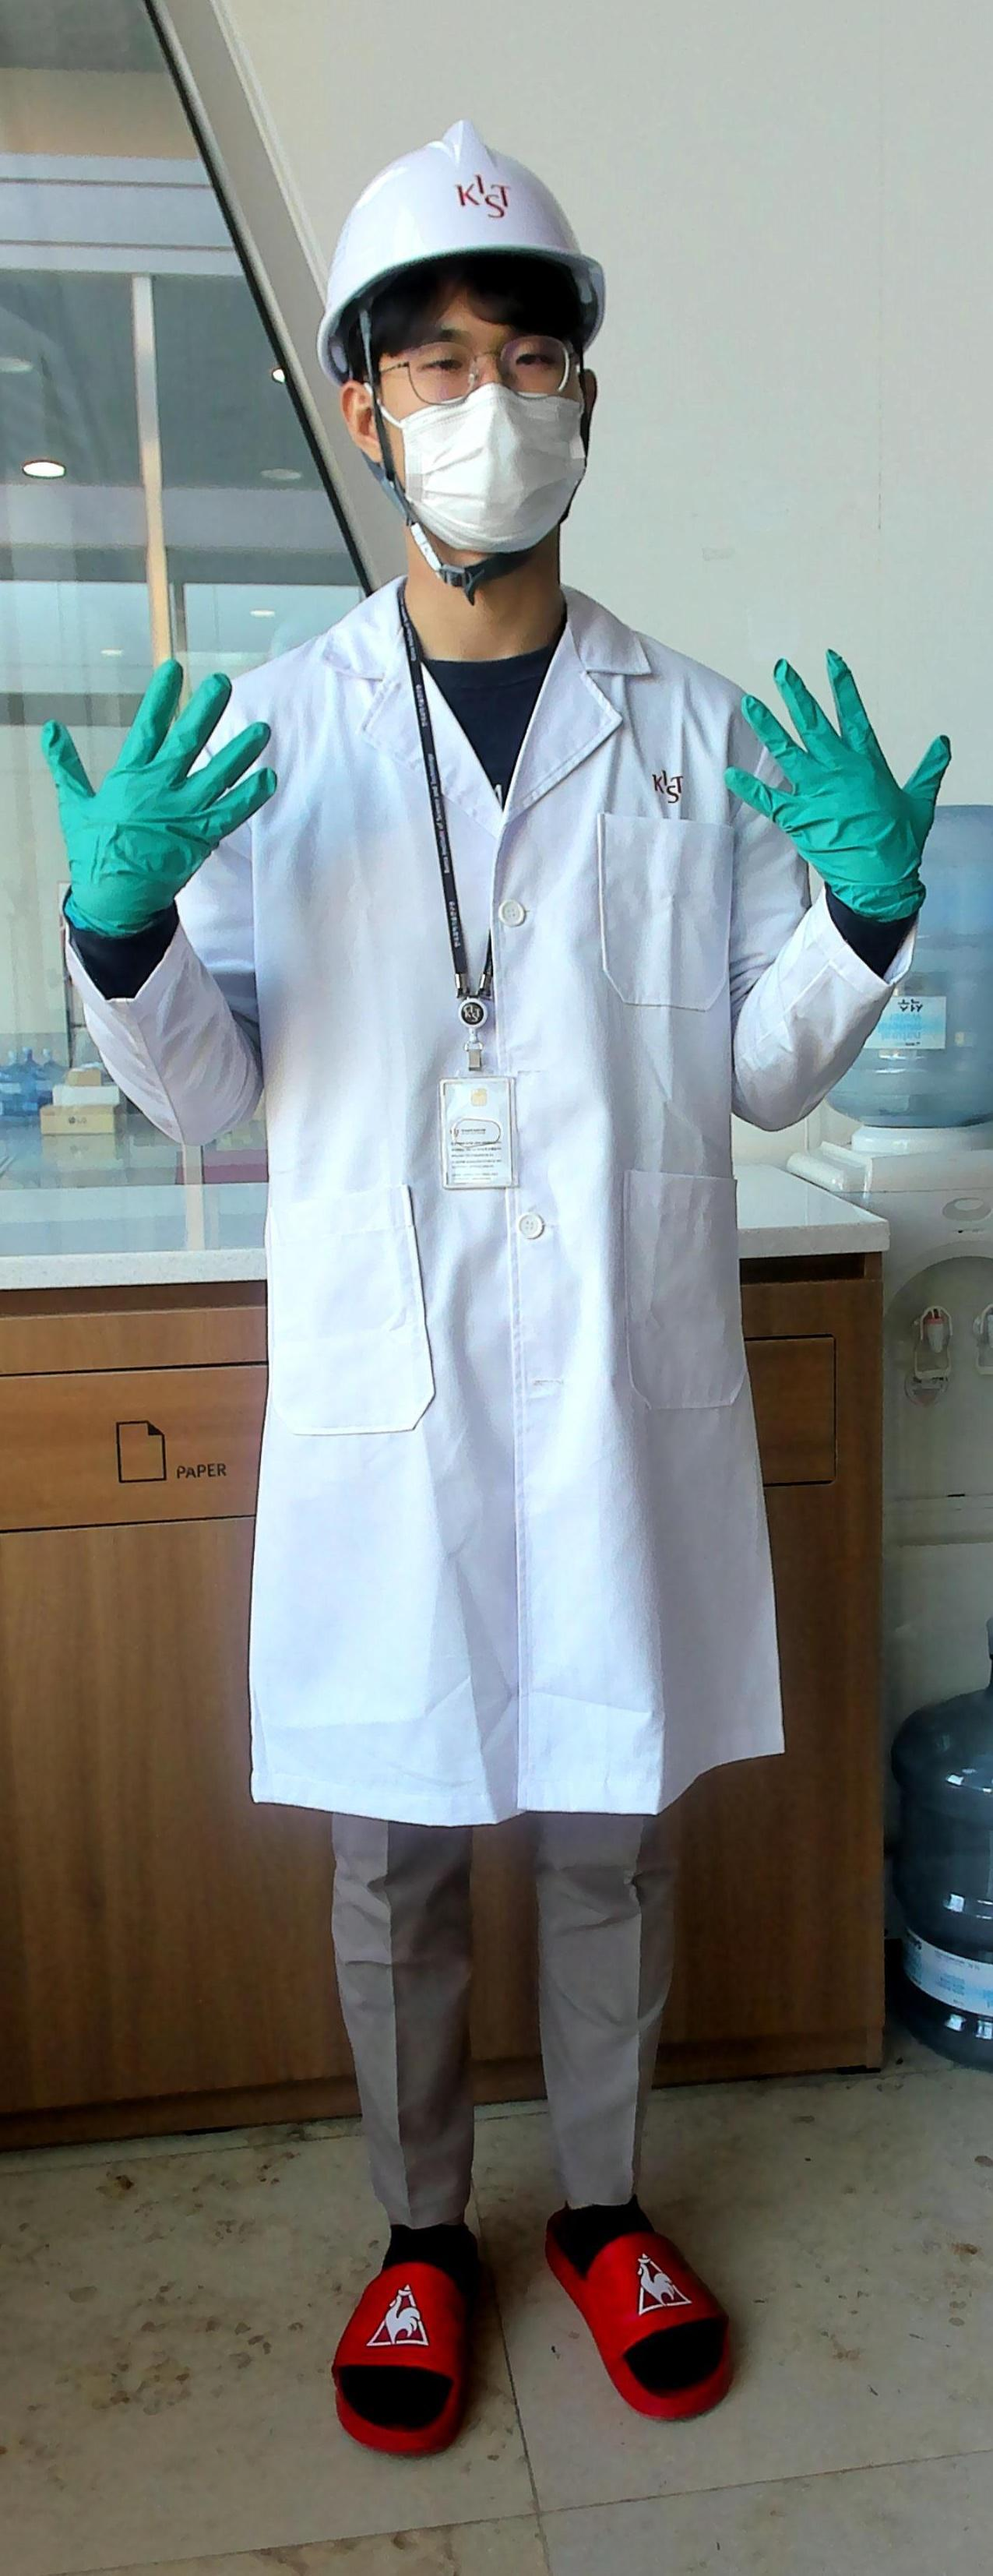lab_coat: (253, 678, 733, 1786)
